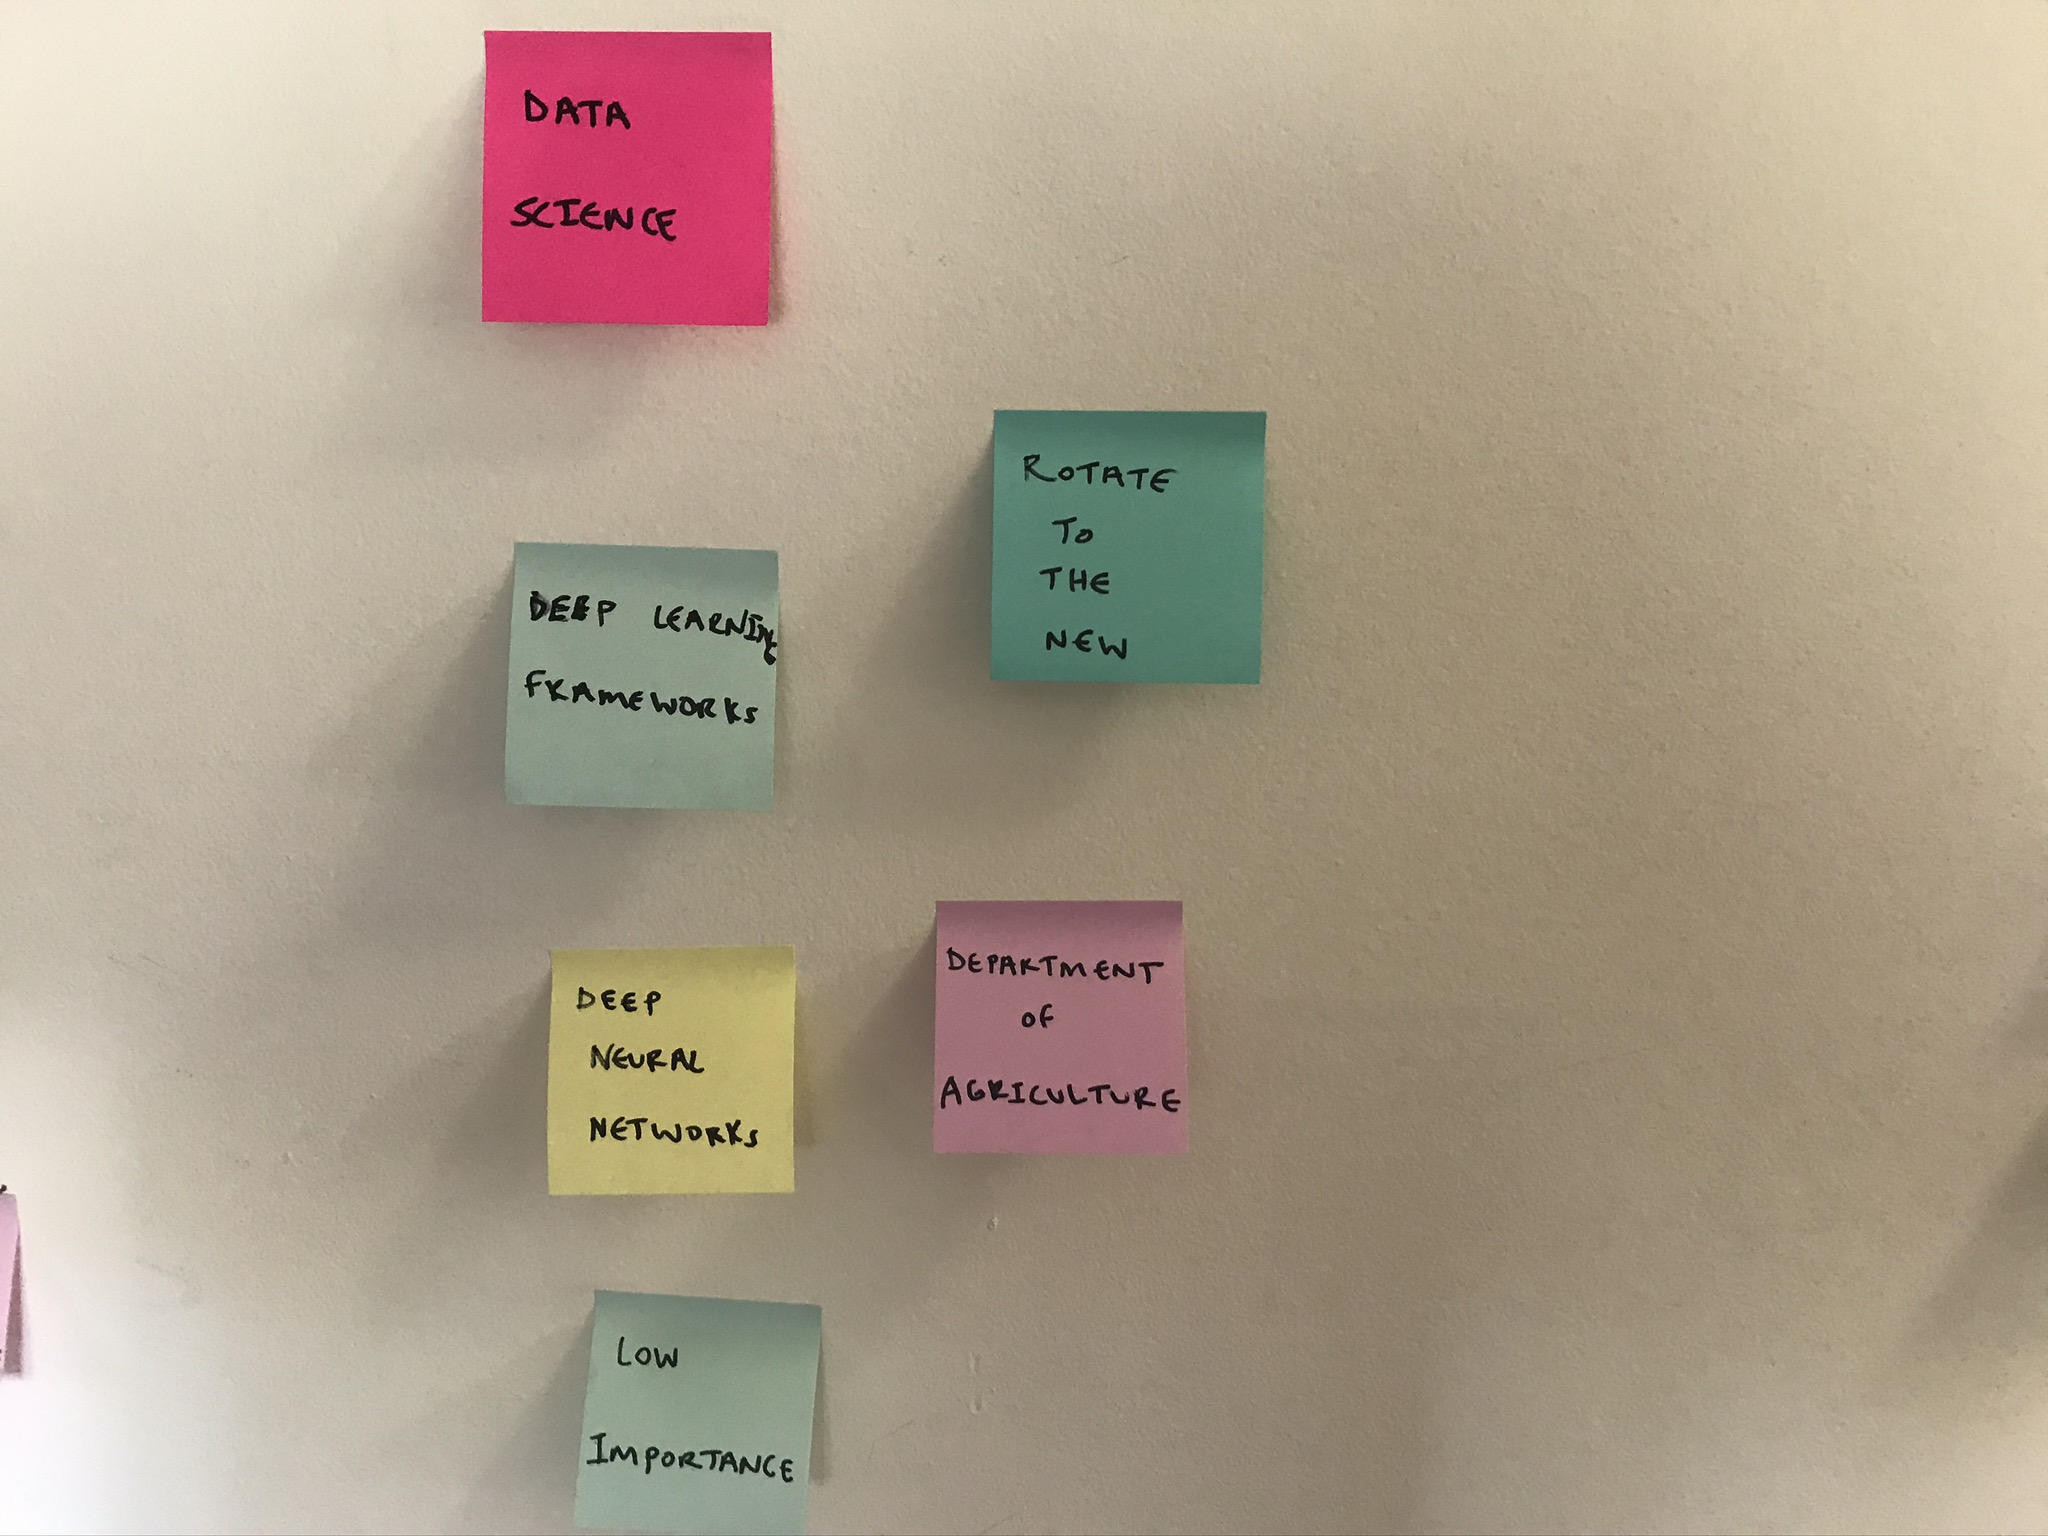sticky: (481, 29, 776, 326), (990, 407, 1269, 684), (505, 537, 780, 813), (930, 900, 1193, 1158), (569, 1286, 824, 1536), (548, 942, 793, 1197)
